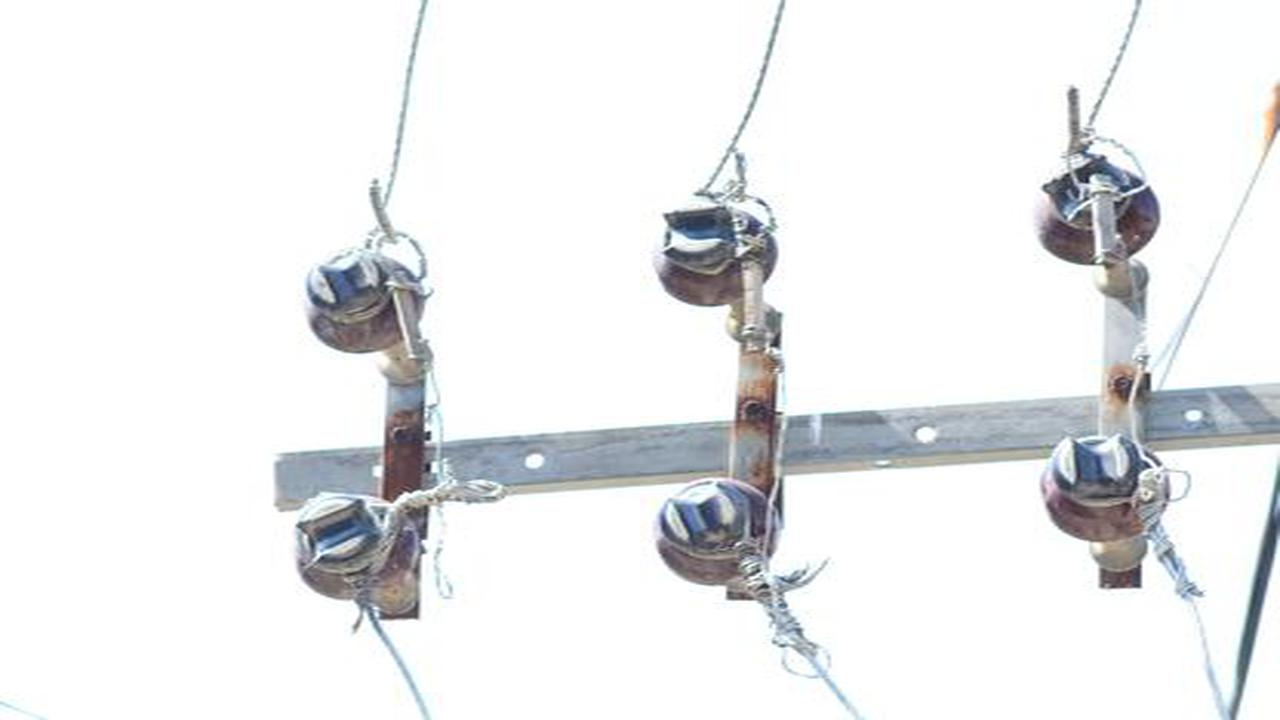insulator_pin: (647, 185, 781, 314), (1030, 427, 1172, 547), (291, 482, 424, 608), (1029, 150, 1165, 267), (650, 465, 781, 584), (296, 240, 429, 357)
